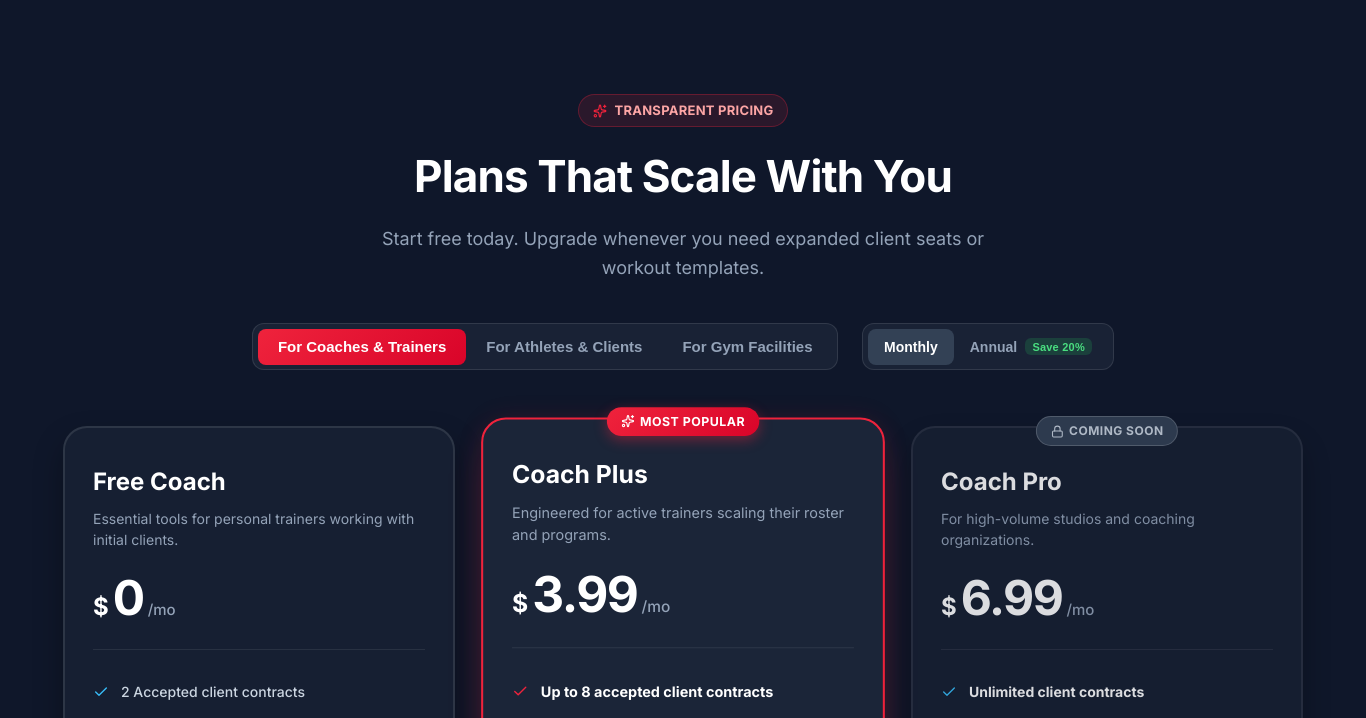
Scenario: LandingPage › renders pricing plans with role toggle and disabled Pro plan
(page scrolled)
Expected: the heading "Plans That Scale With You" is shown, [414, 143, 952, 209]
Expected: the heading "Free Coach" is shown, [93, 468, 226, 496]
Note: Switch to Client / Athlete tab
Click the tab "For Athletes & Clients": (564, 347) [466, 328, 662, 365]
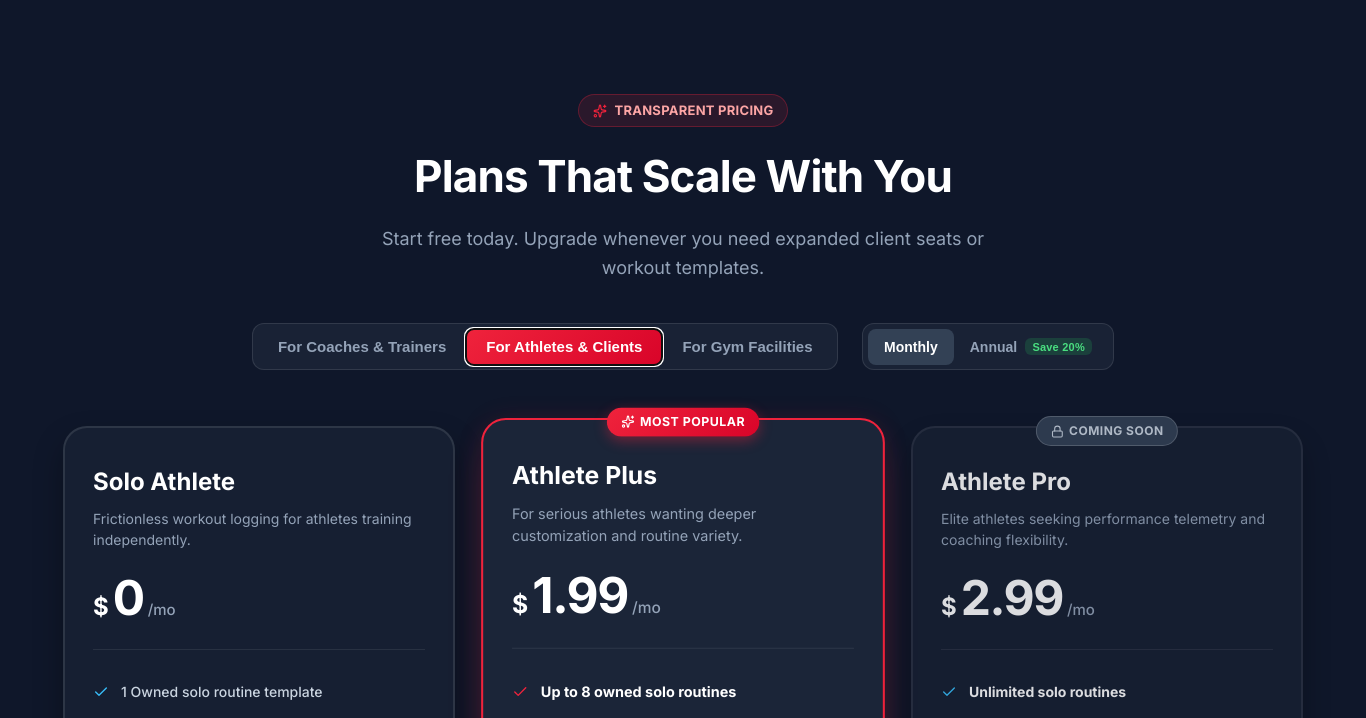
Expected: the heading "Solo Athlete" is shown, [93, 468, 235, 496]
Expected: the heading "Athlete Plus" is shown, [512, 461, 657, 491]
Expected: the heading "Athlete Pro" is shown, [941, 468, 1071, 496]
Note: Switch to Gym Facilities tab
Click the tab "For Gym Facilities": (747, 347) [662, 328, 832, 365]
(page scrolled)
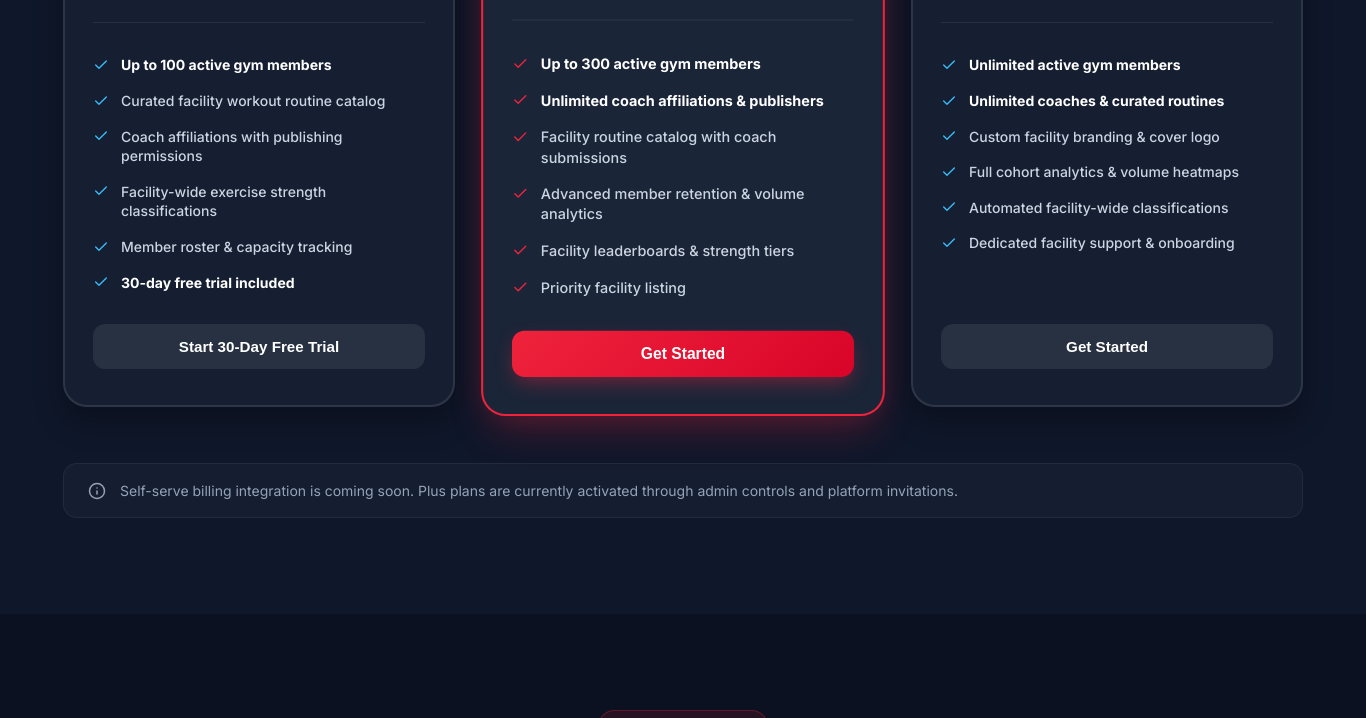
Expected: the button "Start 30-Day Free Trial" is shown, [93, 324, 425, 369]
